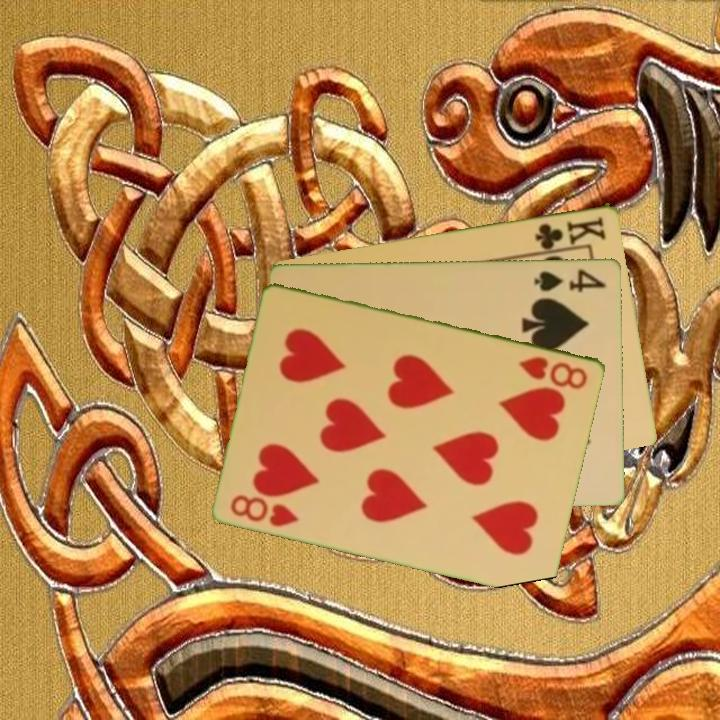4s: (531, 265, 609, 295)
8h: (516, 352, 591, 392), (227, 491, 302, 530)
Kc: (532, 212, 609, 251)
